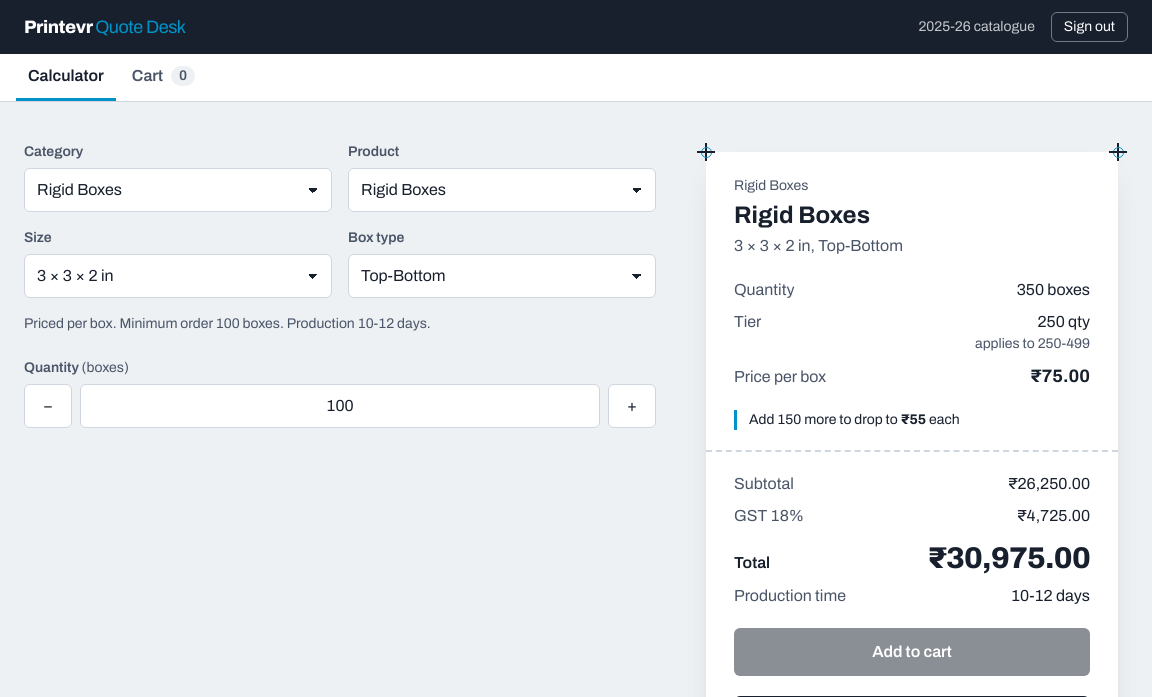
Test: quote desk › keeps the form filled when the server can't be reached
Step 1. Replace the text in the field labelled "Quantity (boxes)" with "350" → (340, 406), box [80,384,600,428]
Wait 300 ms
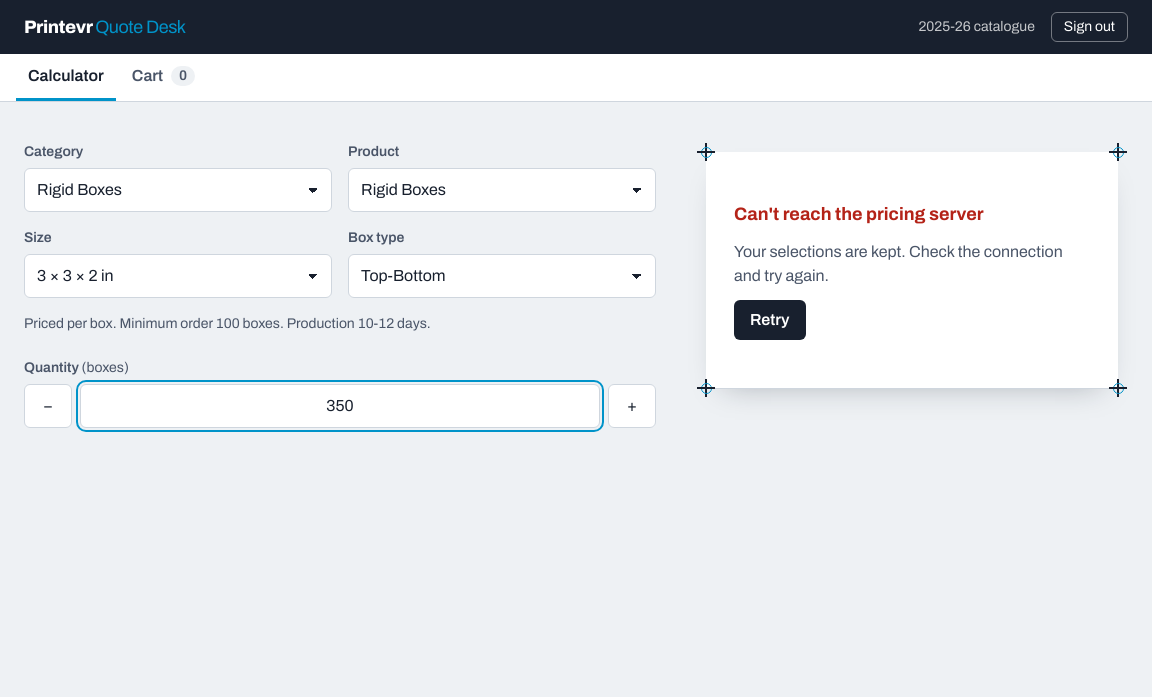
Result: the heading "Can't reach the pricing server" is shown at [734,200,984,228]
Step 2. Click the button "Retry" → (770, 320), box [734,300,806,340]
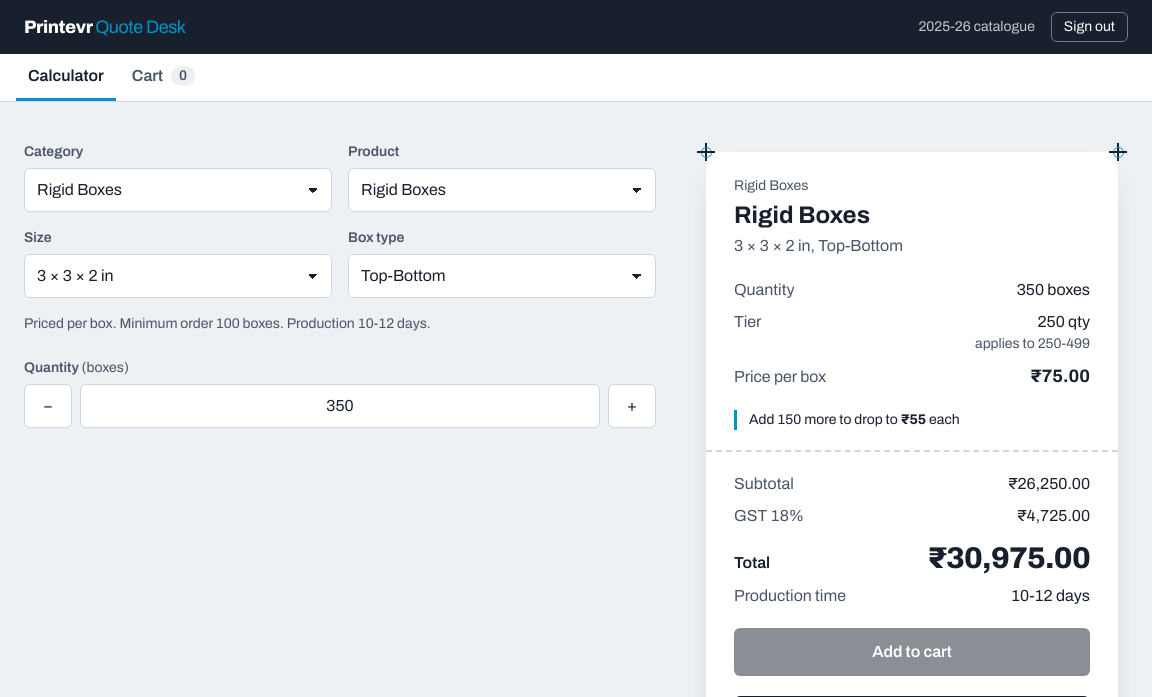
Result: the text with test id "grand-total" reads "₹30,975.00" at [928,542,1090,574]
